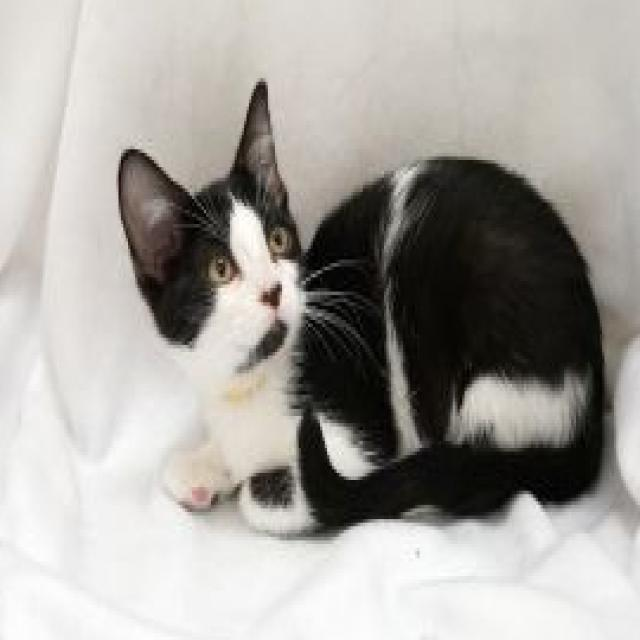Tuxedo: (114, 78, 608, 533)
